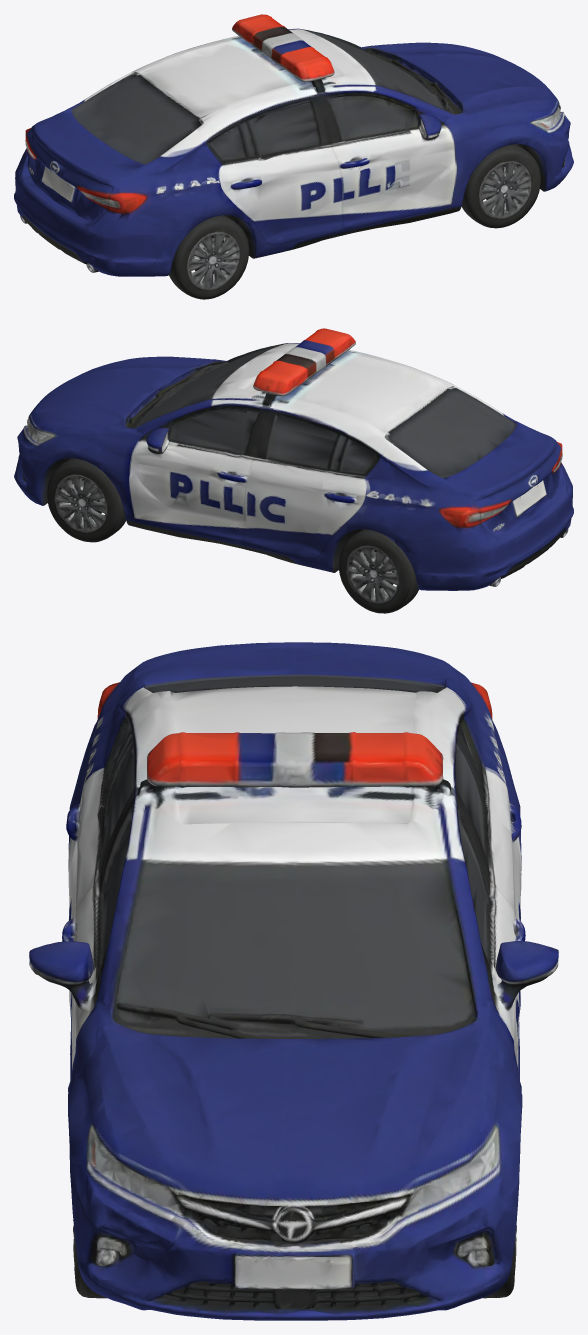
Rendered from volante.glb.
3 renders of one model, top to bottom at view 1: azimuth 30°, elevation 25°; view 2: azimuth 150°, elevation 25°; view 3: azimuth 270°, elevation 25°, orthographic. The views are drawn at different scales.
Parts seen in each view (by area): view 1: tripo_node_3605e97f-759b-4686-a642-b9005e3a2a3e; view 2: tripo_node_3605e97f-759b-4686-a642-b9005e3a2a3e; view 3: tripo_node_3605e97f-759b-4686-a642-b9005e3a2a3e.
Part boxes in pixels (<box>): tripo_node_3605e97f-759b-4686-a642-b9005e3a2a3e: <box>14,14,573,299</box>; tripo_node_3605e97f-759b-4686-a642-b9005e3a2a3e: <box>14,328,573,613</box>; tripo_node_3605e97f-759b-4686-a642-b9005e3a2a3e: <box>29,642,558,1320</box>.
Bounding box in the file's own units: 1 × 0.3632 × 0.4566.
Materials: 1 (1 with a texture image).
